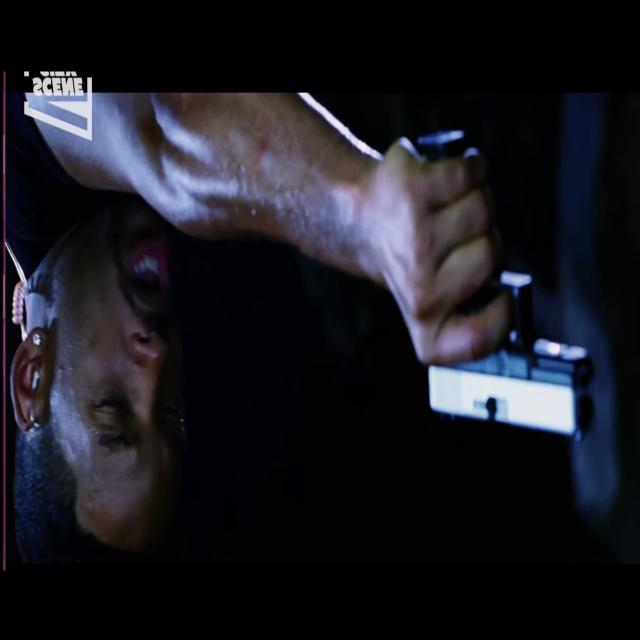weapons: (402, 128, 602, 445)
